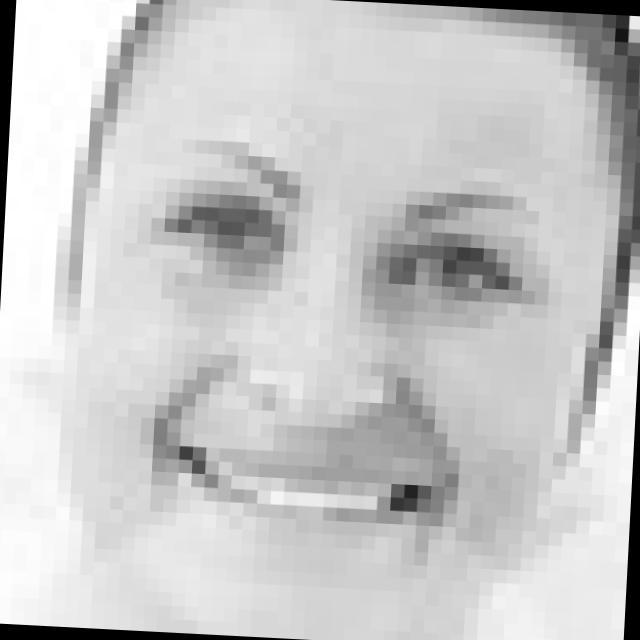happy: (124, 128, 552, 586)
